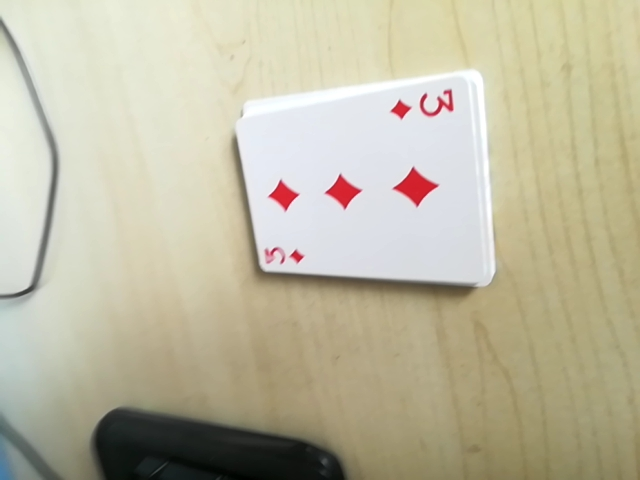fk 3: (391, 83, 462, 129), (254, 236, 309, 271)
